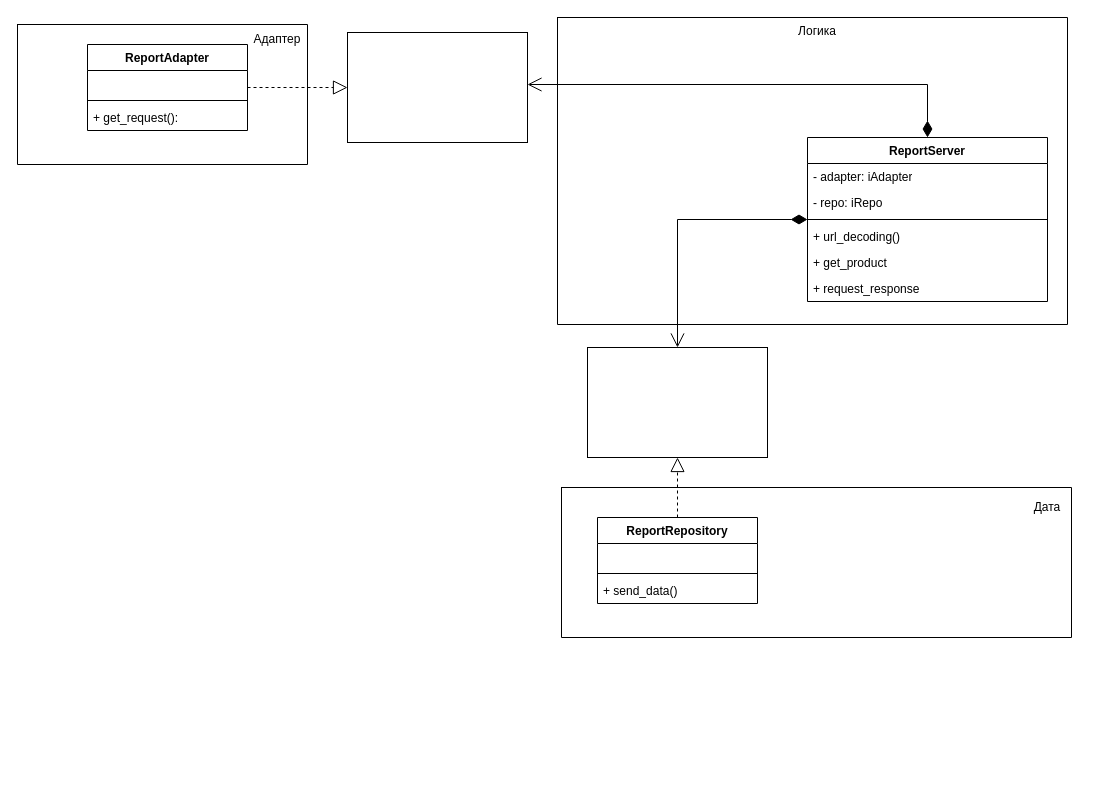
This 1095x812 diagram has some shape labels left out. The shapes that lost their labels are listed below. From the top down, each one's centre as x and y in pixels, then its label:
the point at 437,87: <<Interface>> iAdapter
the point at 677,402: <<Interface>> iRepo
